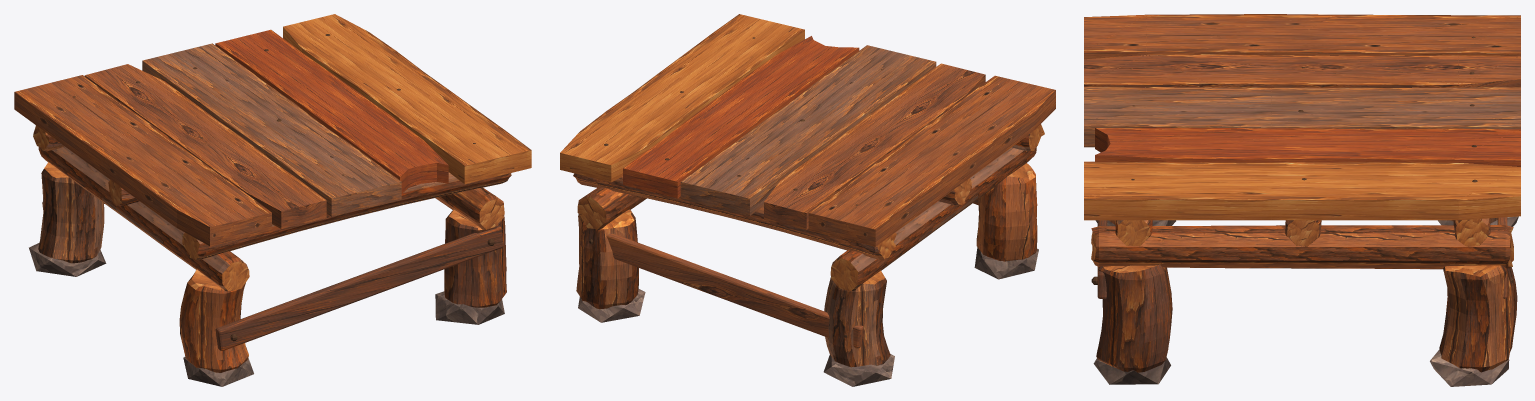
Rendered from foundation__plank_root.glb.
The picture shows the model from 3 angles, left to right: view 1: azimuth 30°, elevation 25°; view 2: azimuth 150°, elevation 25°; view 3: azimuth 270°, elevation 25°; orthographic projection. The views are drawn at different scales.
Parts seen in each view (by area): view 1: model; view 2: model; view 3: model.
Boxes of the visible parts, x1,y1,x2,y2 form: model: (14,14,531,386); model: (560,14,1055,386); model: (1084,14,1520,386).
Size of the model in its own units: 1.99 by 0.9962 by 1.99.
26 materials, 26 textured.
